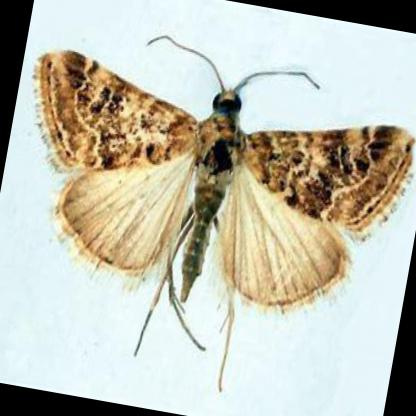Hellula undalis: (31, 26, 416, 402)
